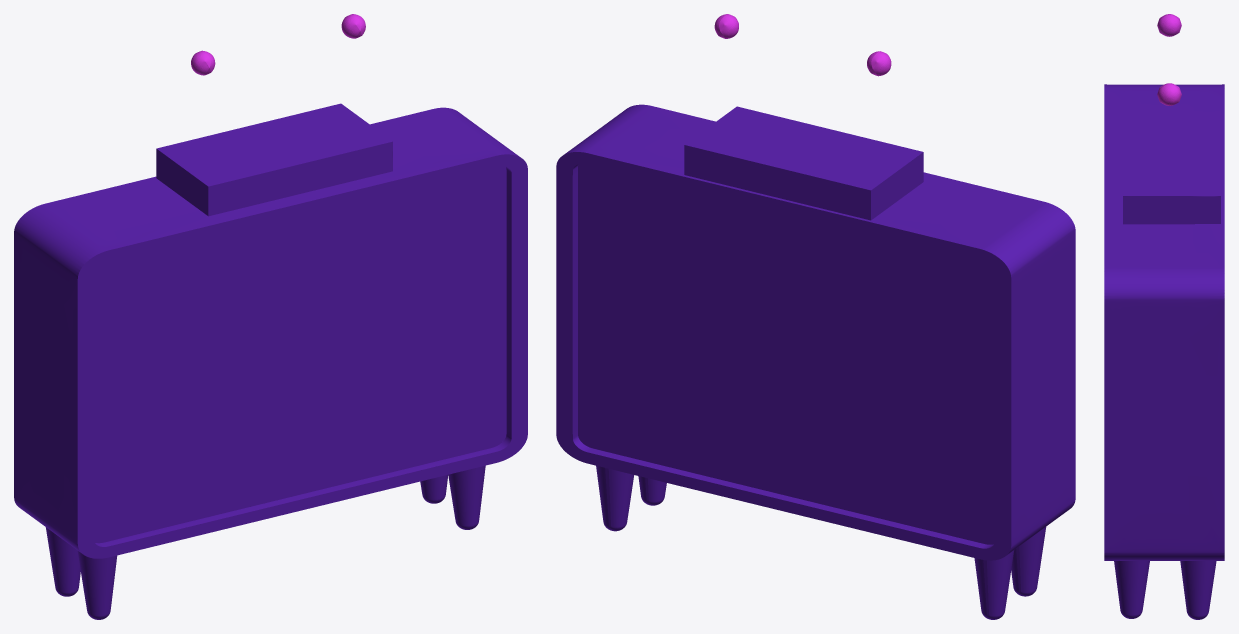
3 renders of one model, left to right at view 1: azimuth 30°, elevation 25°; view 2: azimuth 150°, elevation 25°; view 3: azimuth 270°, elevation 25°, orthographic. The views are drawn at different scales.
Visible parts, largest first — view 1: Cube.001; view 2: Cube.001; view 3: Cube.001.
Part boxes in pixels (left/top/right/bottom): Cube.001: left=14, top=14, right=527, bottom=619; Cube.001: left=556, top=14, right=1075, bottom=619; Cube.001: left=1104, top=14, right=1224, bottom=619.
Size of the model in its own units: 4.42 by 4.89 by 1.09.
